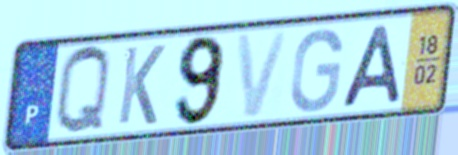9: (172, 33, 230, 128)
A: (337, 22, 405, 110)
G: (287, 25, 345, 115)
K: (115, 42, 168, 127)
Q: (52, 43, 113, 139)
V: (234, 27, 293, 121)
